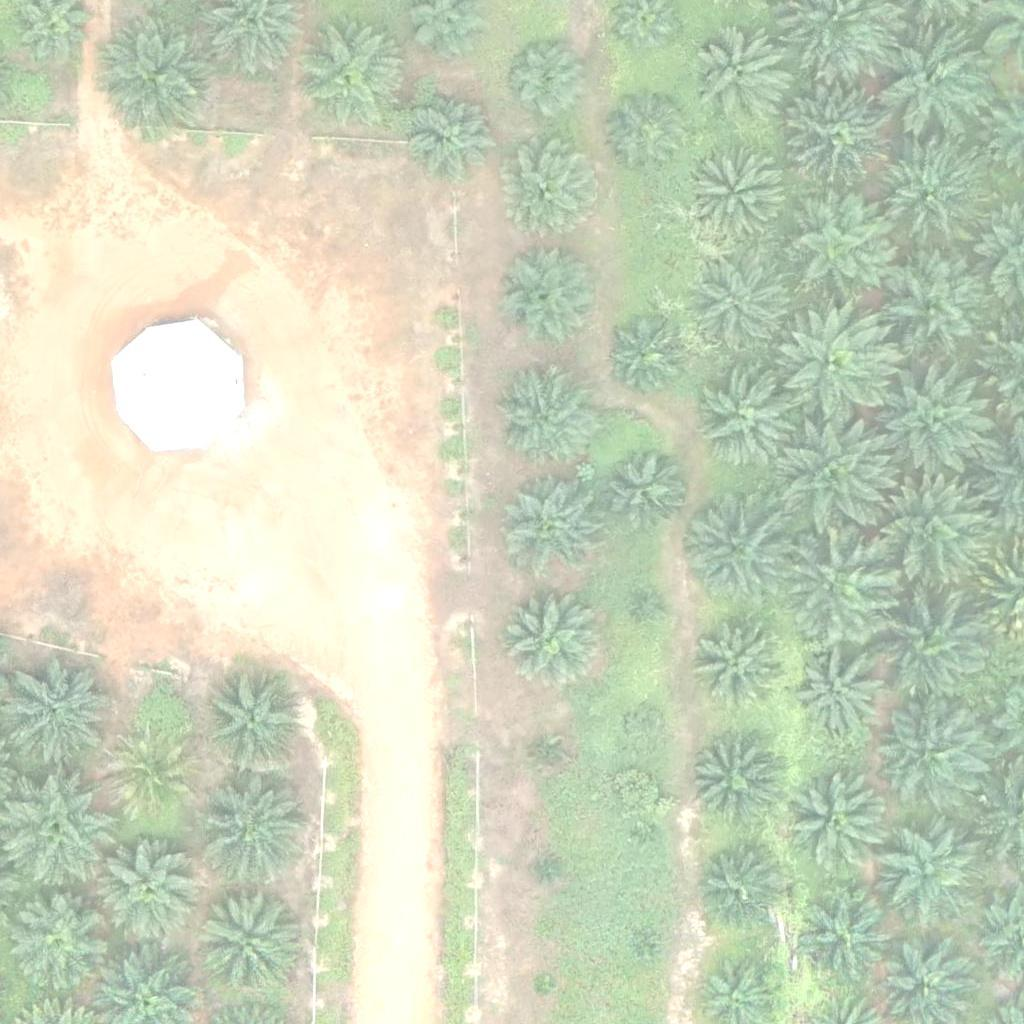Kelapa_Sawit: (680, 493, 793, 607), (4, 656, 117, 770), (2, 772, 115, 886), (103, 18, 216, 131), (785, 81, 898, 194), (878, 26, 991, 139), (872, 137, 985, 250), (880, 252, 993, 365), (295, 18, 407, 132), (780, 421, 892, 535), (874, 591, 986, 705), (878, 694, 990, 808), (783, 527, 895, 641), (780, 190, 892, 303), (779, 311, 891, 424), (882, 363, 994, 476), (871, 478, 983, 591), (199, 771, 311, 884), (493, 365, 593, 466), (691, 26, 791, 127), (686, 144, 786, 245), (877, 823, 977, 924), (786, 772, 886, 873), (794, 884, 894, 985), (501, 476, 601, 577), (499, 584, 599, 685), (201, 671, 301, 772), (503, 139, 603, 239), (498, 246, 598, 346), (696, 258, 796, 358), (698, 371, 798, 471), (196, 891, 296, 991), (102, 844, 202, 944), (8, 894, 108, 994), (412, 91, 500, 179), (695, 845, 783, 933), (107, 734, 195, 822), (502, 35, 589, 123), (604, 90, 691, 178), (796, 650, 883, 738), (696, 617, 783, 705), (689, 739, 776, 827), (602, 446, 689, 534), (609, 318, 684, 394), (627, 709, 665, 747), (640, 594, 665, 619), (636, 824, 661, 849), (630, 940, 655, 965), (536, 744, 561, 769), (536, 857, 561, 882), (532, 975, 557, 1000)
